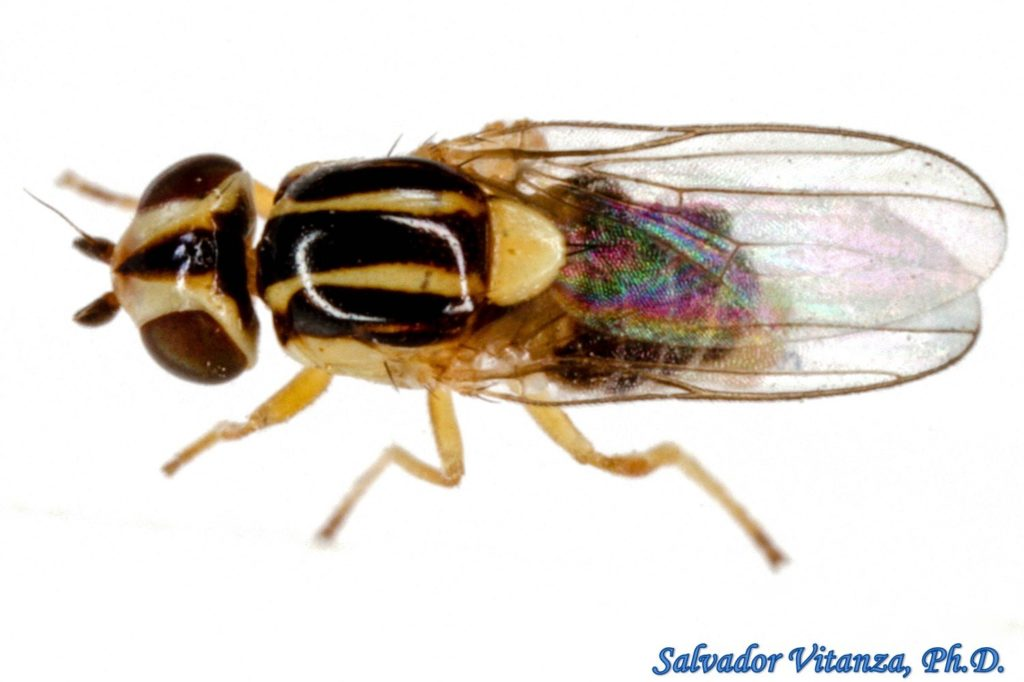Chloropidae: (22, 106, 1024, 569)
